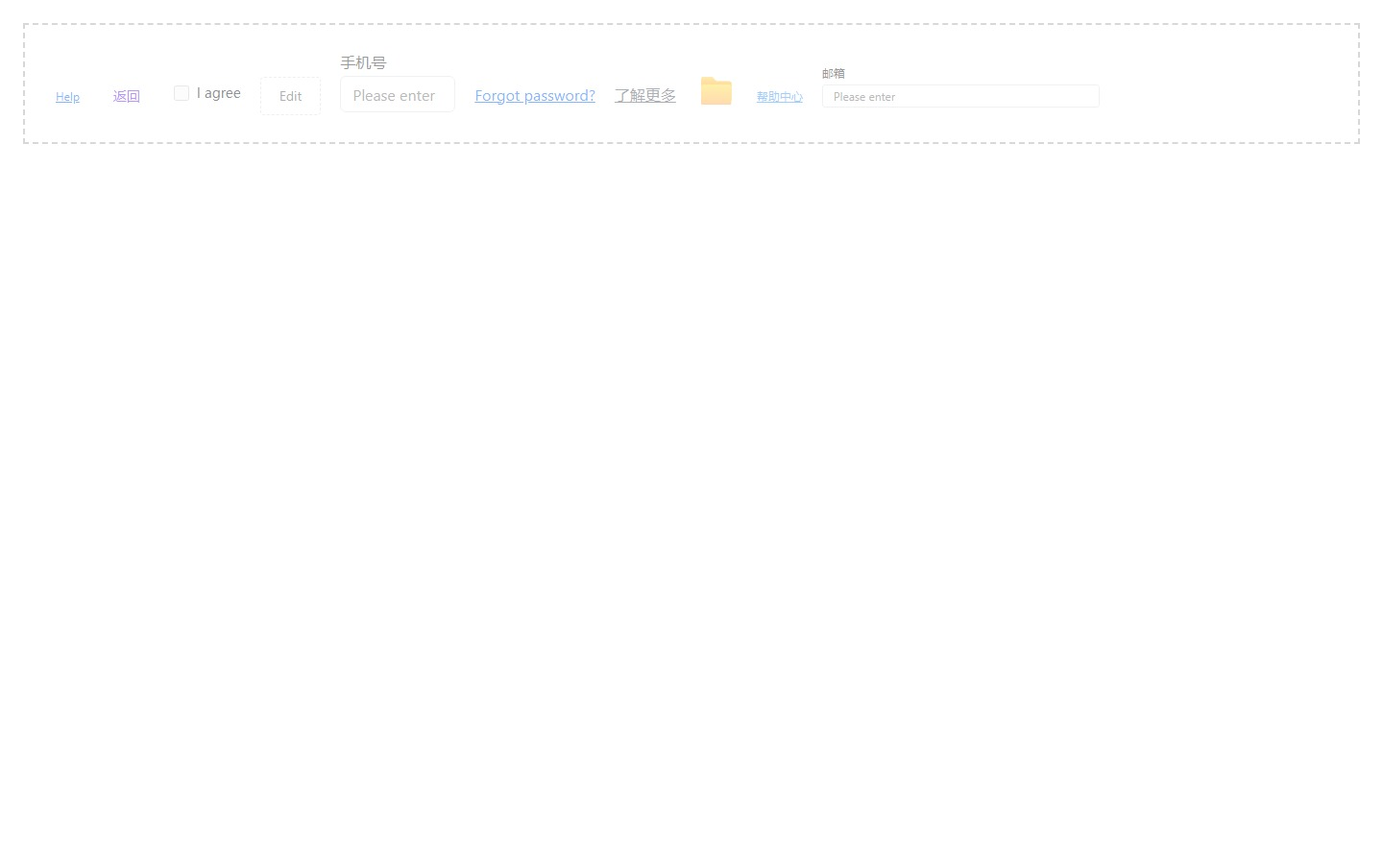button: (260, 76, 321, 115), (99, 81, 154, 110)
checkbox: (174, 85, 189, 100)
icon: (695, 72, 737, 103), (197, 84, 241, 102)
input: (822, 84, 1099, 107), (340, 76, 455, 112)
link: (475, 84, 595, 104), (614, 84, 676, 104), (757, 88, 803, 103), (56, 88, 79, 103)
modal: (23, 23, 1360, 144)
radio: (174, 84, 241, 102)
